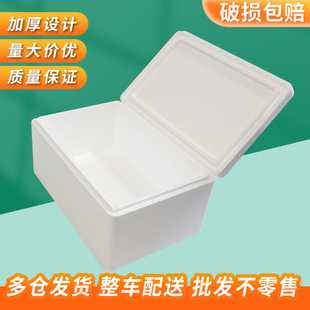Boxes: (32, 34, 293, 268)
